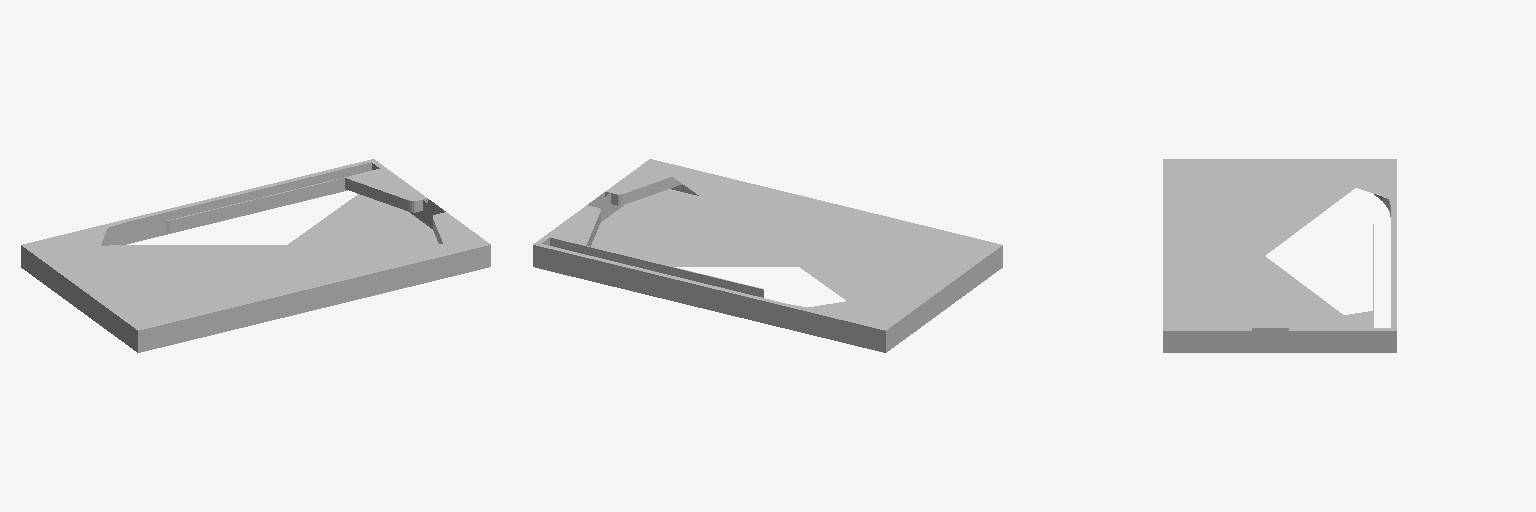
The model's file is board_collision.obj.
The picture shows the model from 3 angles: view 1: azimuth 30°, elevation 25°; view 2: azimuth 150°, elevation 25°; view 3: azimuth 270°, elevation 25°; orthographic projection.
Parts seen in each view (by area): view 1: Cube.005, Cube.001, Cube.002, Plane.001; view 2: Cube.005, Cube.001, Cube.002, Plane.001; view 3: Cube.005, Cube.001, Cube.002.
Boxes of the visible parts, x1=… form: Cube.005: x1=21, y1=159, x2=490, y2=352; Cube.001: x1=31, y1=222, x2=229, y2=326; Cube.002: x1=345, y1=169, x2=481, y2=251; Plane.001: x1=166, y1=169, x2=378, y2=231; Cube.005: x1=533, y1=159, x2=1002, y2=352; Cube.001: x1=790, y1=223, x2=991, y2=326; Cube.002: x1=551, y1=162, x2=686, y2=246; Plane.001: x1=550, y1=237, x2=763, y2=297; Cube.005: x1=1163, y1=159, x2=1396, y2=352; Cube.001: x1=1170, y1=161, x2=1390, y2=216; Cube.002: x1=1169, y1=311, x2=1372, y2=327.
Bounding box in the file's own units: 6.6 × 0.4 × 3.8.